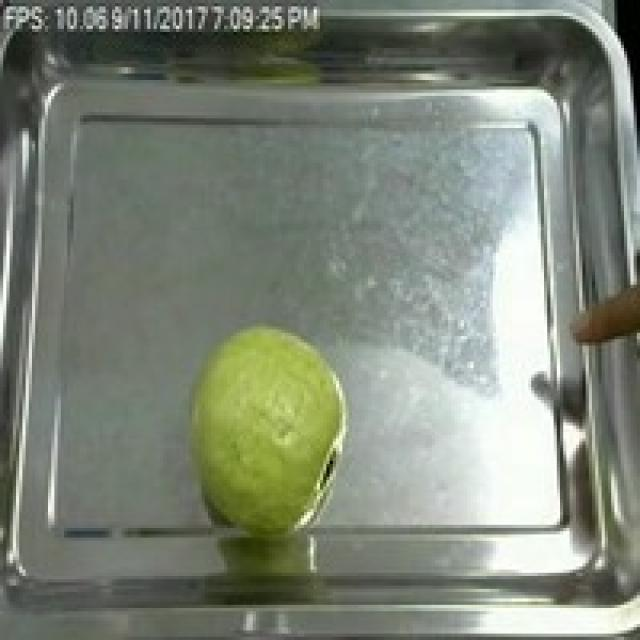Fruit: (176, 310, 362, 534)
